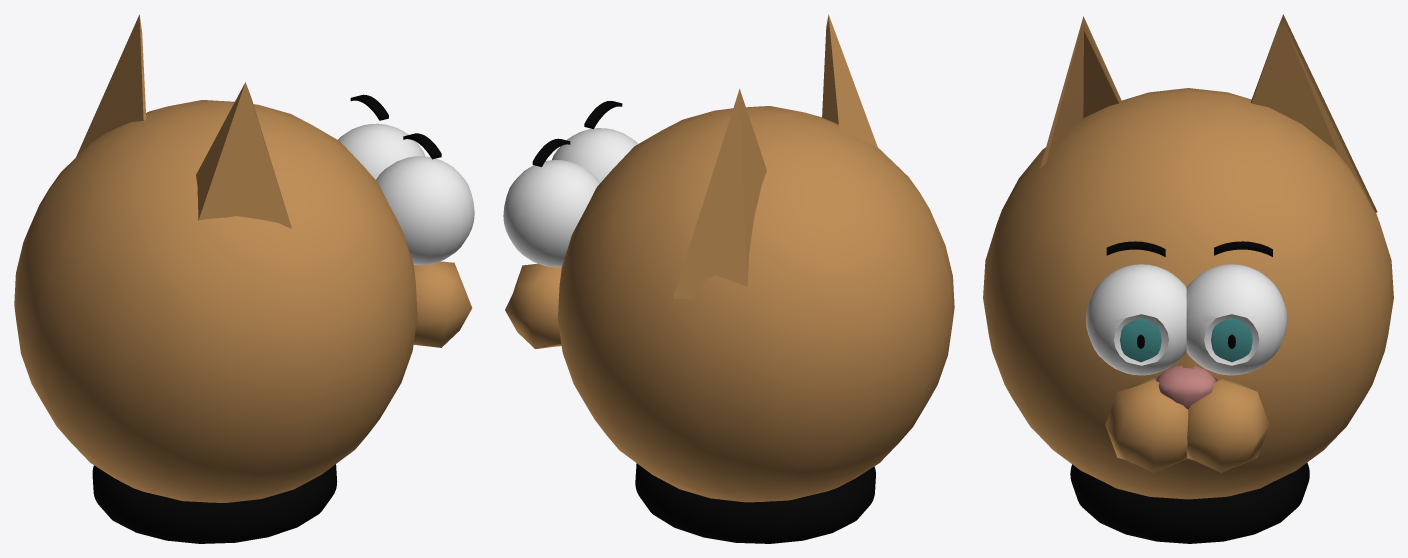
The model's file is Cat_Martinez.fbx.
The picture shows the model from 3 angles, left to right: view 1: azimuth 30°, elevation 25°; view 2: azimuth 150°, elevation 25°; view 3: azimuth 270°, elevation 25°; orthographic projection. The views are drawn at different scales.
Parts seen in each view (by area): view 1: g_head, g_bool_eyes1, g_collar, pPyramid3, g_fluff, pPyramid4; view 2: g_head, g_collar, g_bool_eyes1, pPyramid4, g_fluff, pPyramid3; view 3: g_head, g_bool_eyes1, g_fluff, g_collar, pPyramid4, pPyramid3, g_nose, pPlane1, pPlane2.
Part boxes in pixels (x1=…): g_head: x1=14, y1=100, x2=417, y2=502; g_bool_eyes1: x1=338, y1=123, x2=474, y2=265; g_collar: x1=92, y1=464, x2=337, y2=543; pPyramid3: x1=196, y1=82, x2=291, y2=228; g_fluff: x1=413, y1=261, x2=472, y2=347; pPyramid4: x1=76, y1=14, x2=146, y2=157; g_head: x1=557, y1=106, x2=954, y2=502; g_collar: x1=635, y1=463, x2=875, y2=543; g_bool_eyes1: x1=503, y1=128, x2=637, y2=267; pPyramid4: x1=673, y1=89, x2=766, y2=299; g_fluff: x1=505, y1=263, x2=561, y2=348; pPyramid3: x1=822, y1=14, x2=877, y2=147; g_head: x1=983, y1=88, x2=1393, y2=499; g_bool_eyes1: x1=1086, y1=264, x2=1287, y2=375; g_fluff: x1=1105, y1=378, x2=1269, y2=472; g_collar: x1=1070, y1=462, x2=1309, y2=543; pPyramid4: x1=1250, y1=14, x2=1377, y2=212; pPyramid3: x1=1040, y1=16, x2=1121, y2=168; g_nose: x1=1155, y1=365, x2=1217, y2=408; pPlane1: x1=1106, y1=241, x2=1165, y2=256; pPlane2: x1=1214, y1=241, x2=1272, y2=256.
Bounding box in the file's own units: 187 × 202 × 160.
